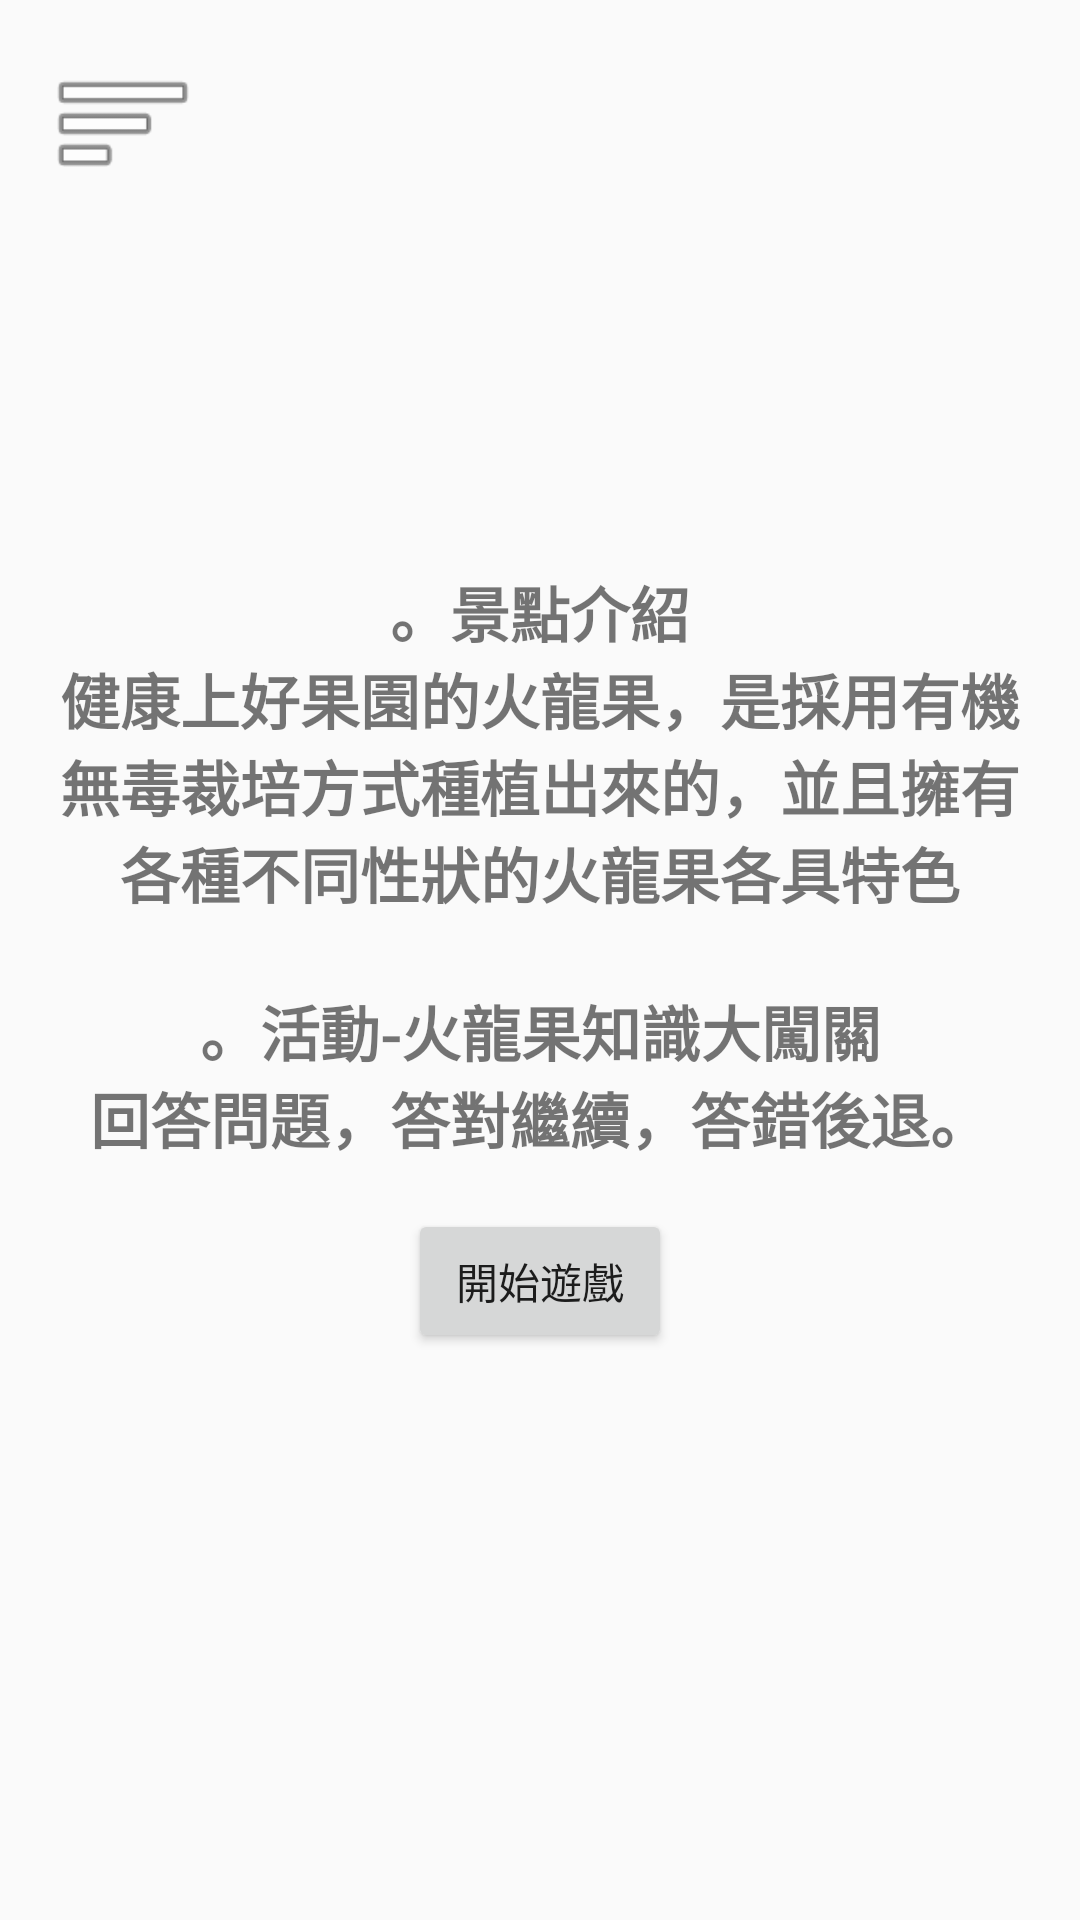

Screen size 1080px×1920px. Icon name, then its center in pixels as (x=x, y=y):
sort by size: (x=123, y=124)
